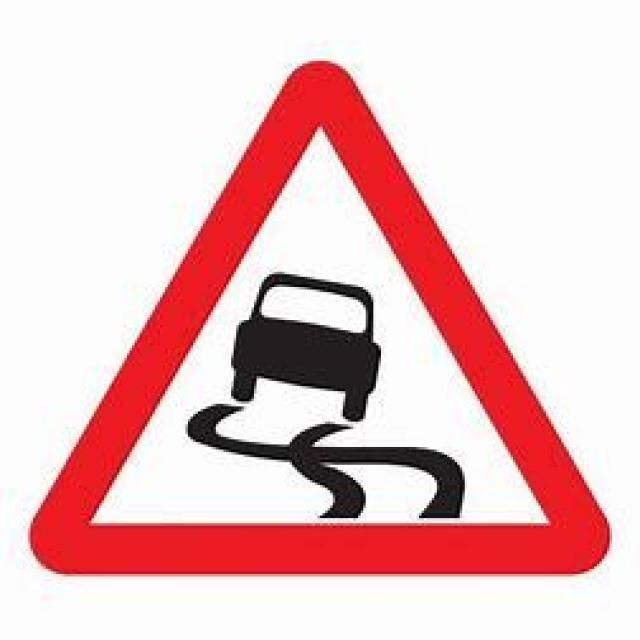children: (26, 58, 610, 574)
